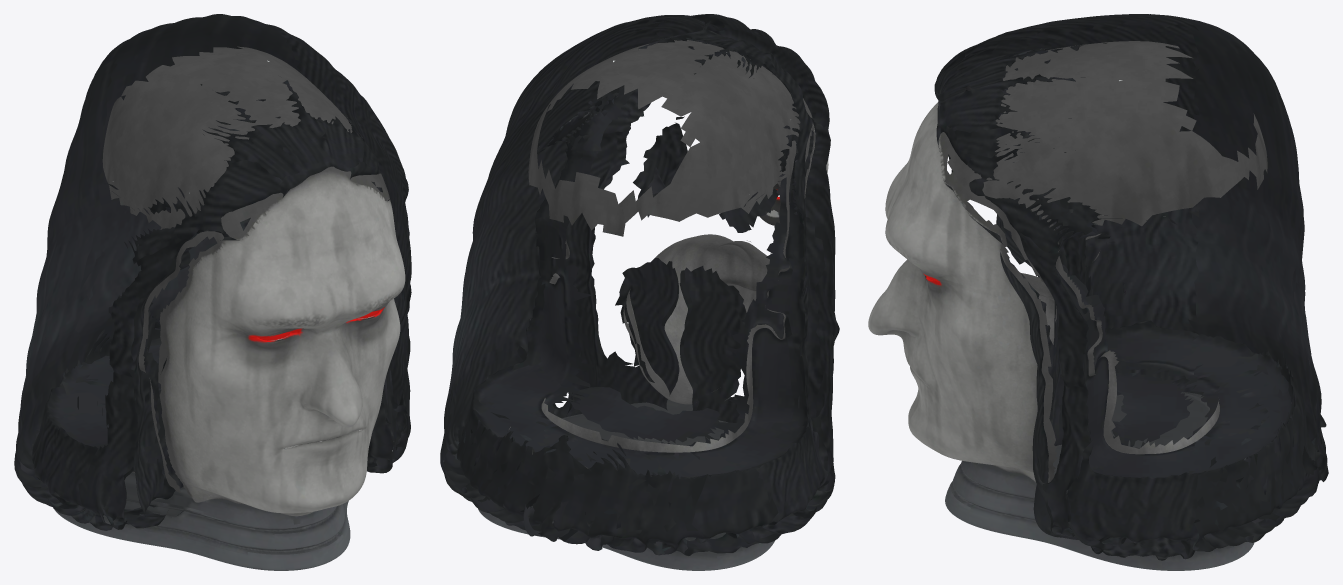
The model's file is faust_head.e598d446.glb.
The picture shows the model from 3 angles, left to right: view 1: azimuth 30°, elevation 25°; view 2: azimuth 150°, elevation 25°; view 3: azimuth 270°, elevation 25°; orthographic projection. The views are drawn at different scales.
Parts seen in each view (by area): view 1: lod0; view 2: lod0; view 3: lod0.
Part boxes in pixels (<box>): lod0: <box>14,14,411,570</box>; lod0: <box>440,14,839,570</box>; lod0: <box>868,14,1328,570</box>.
Size of what is drawn, in the model's own units: 720 by 897 by 785.
Materials: 1 (1 with a texture image).
